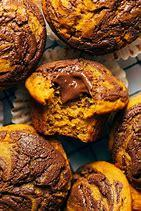muffin: (25, 58, 127, 147), (0, 123, 62, 211), (47, 0, 140, 55), (0, 0, 41, 94), (70, 157, 134, 211)
